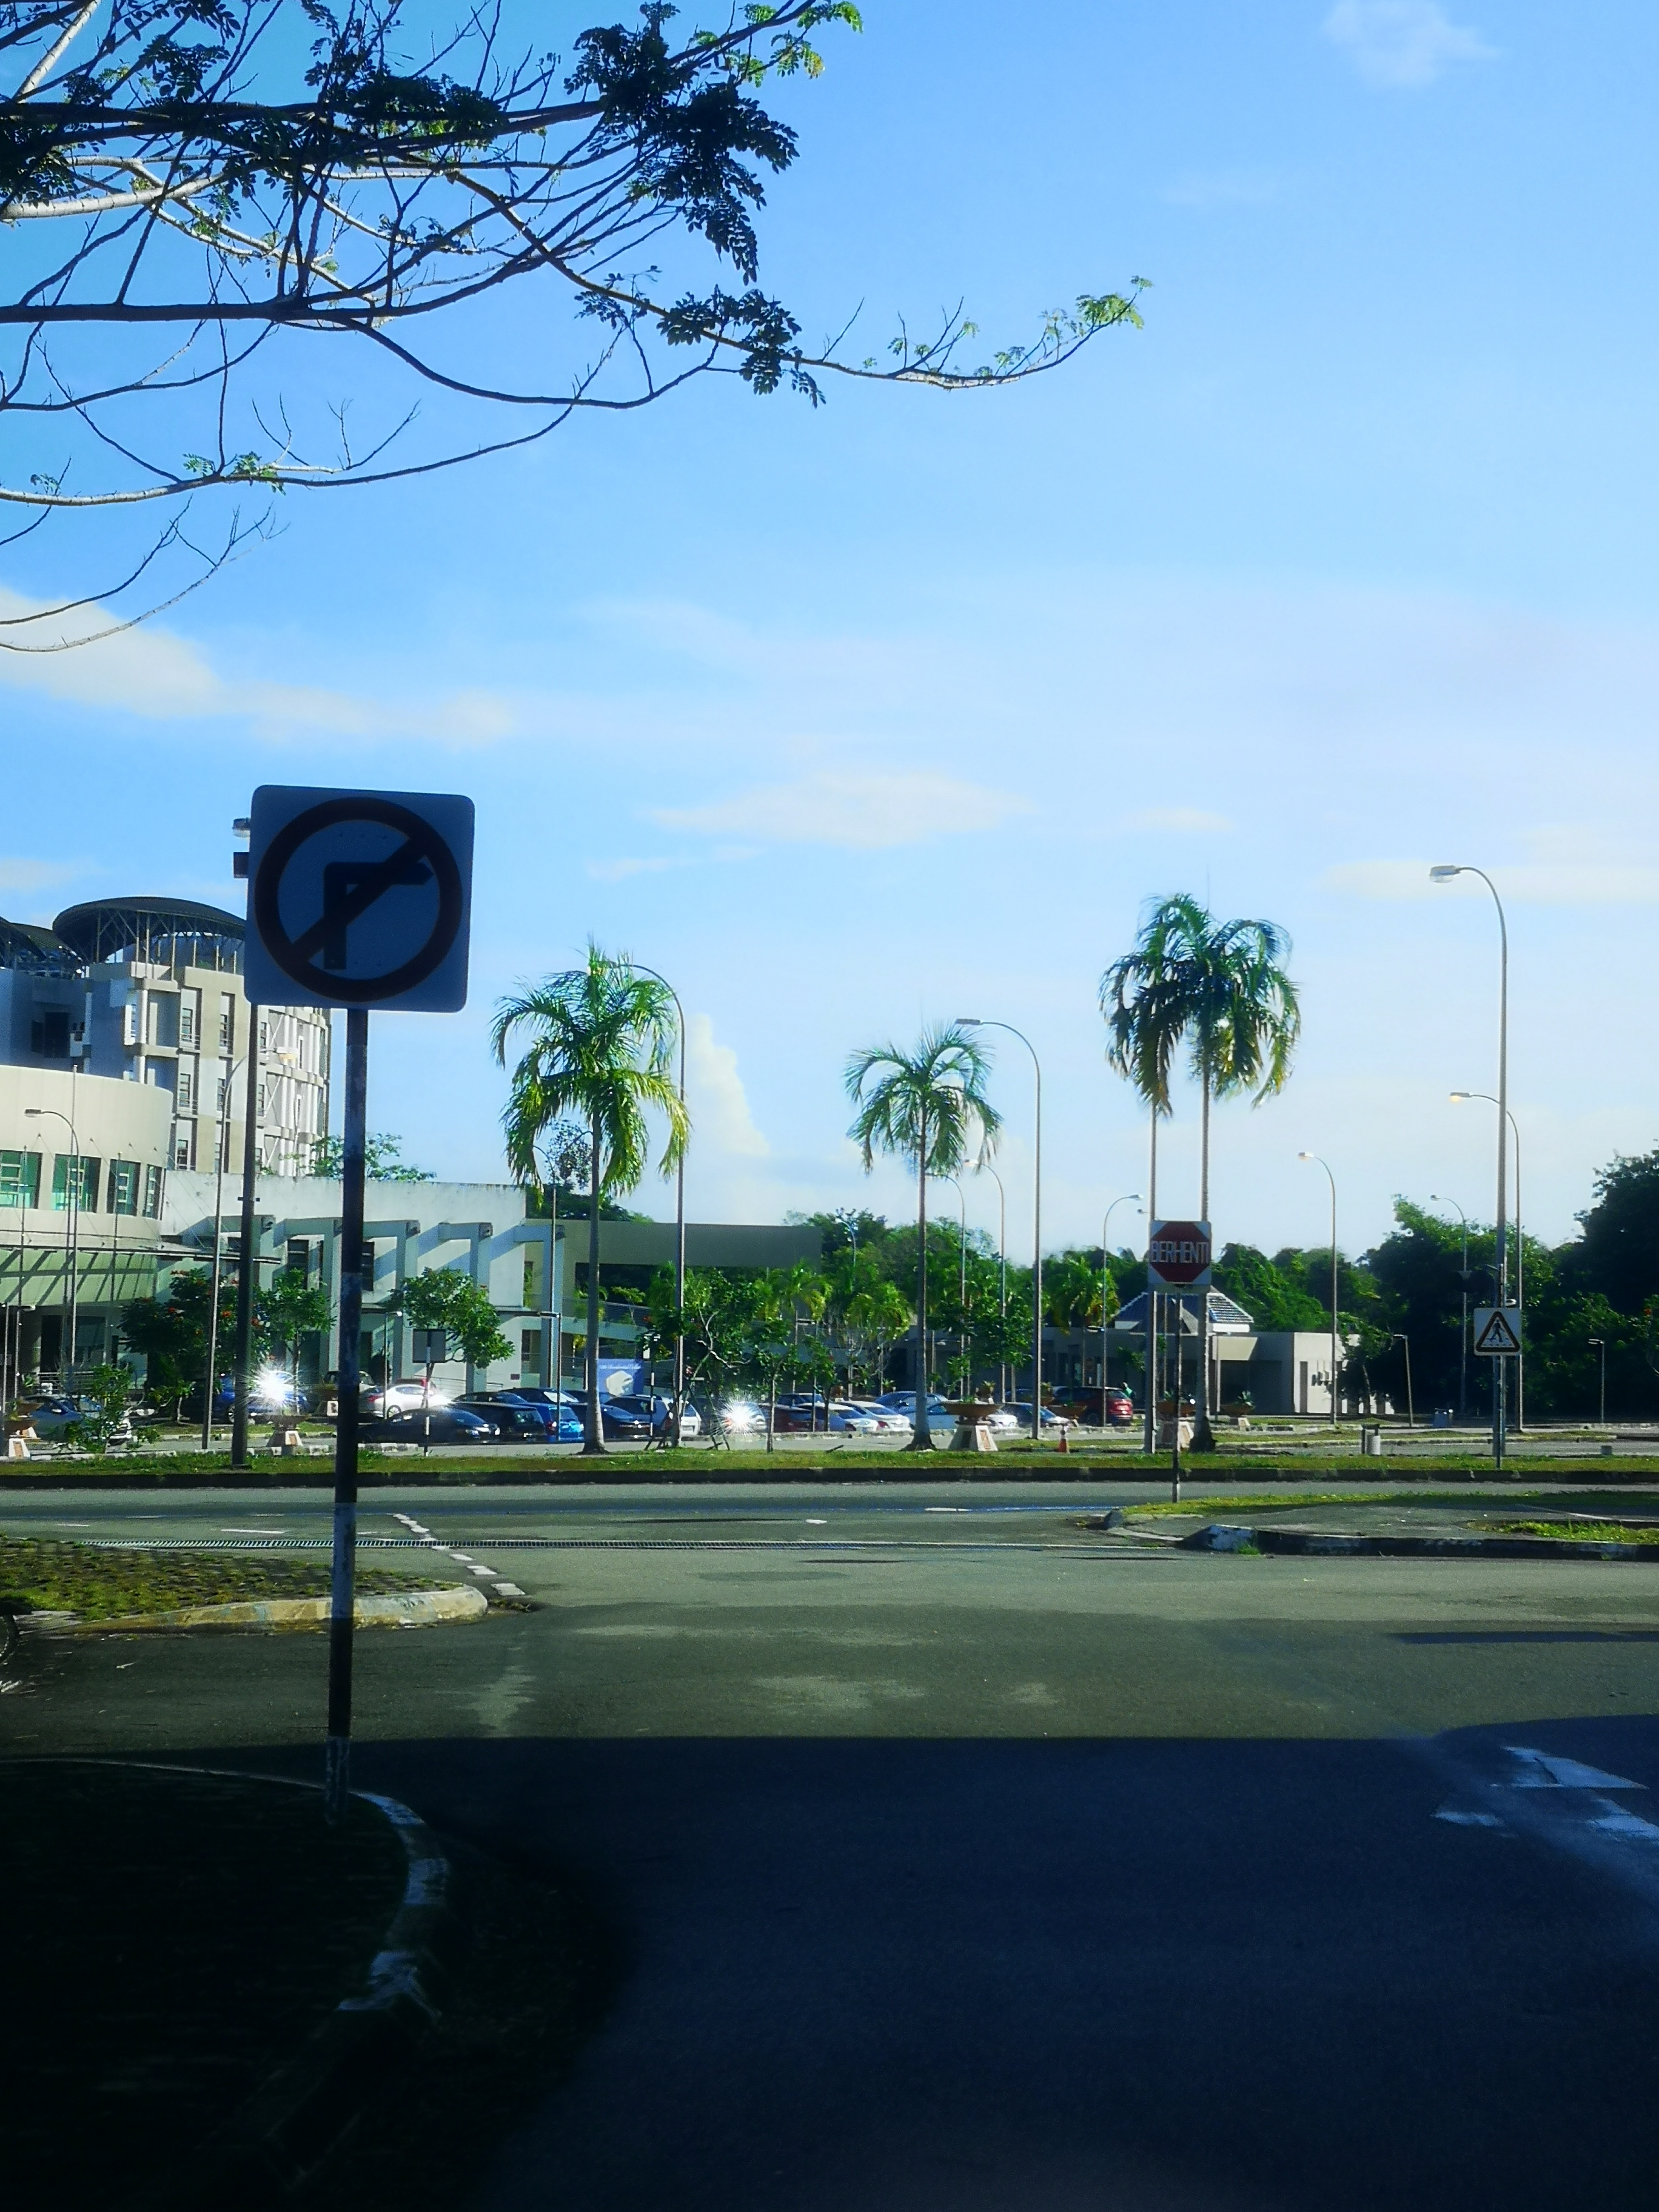no right turn: (240, 780, 472, 1014)
